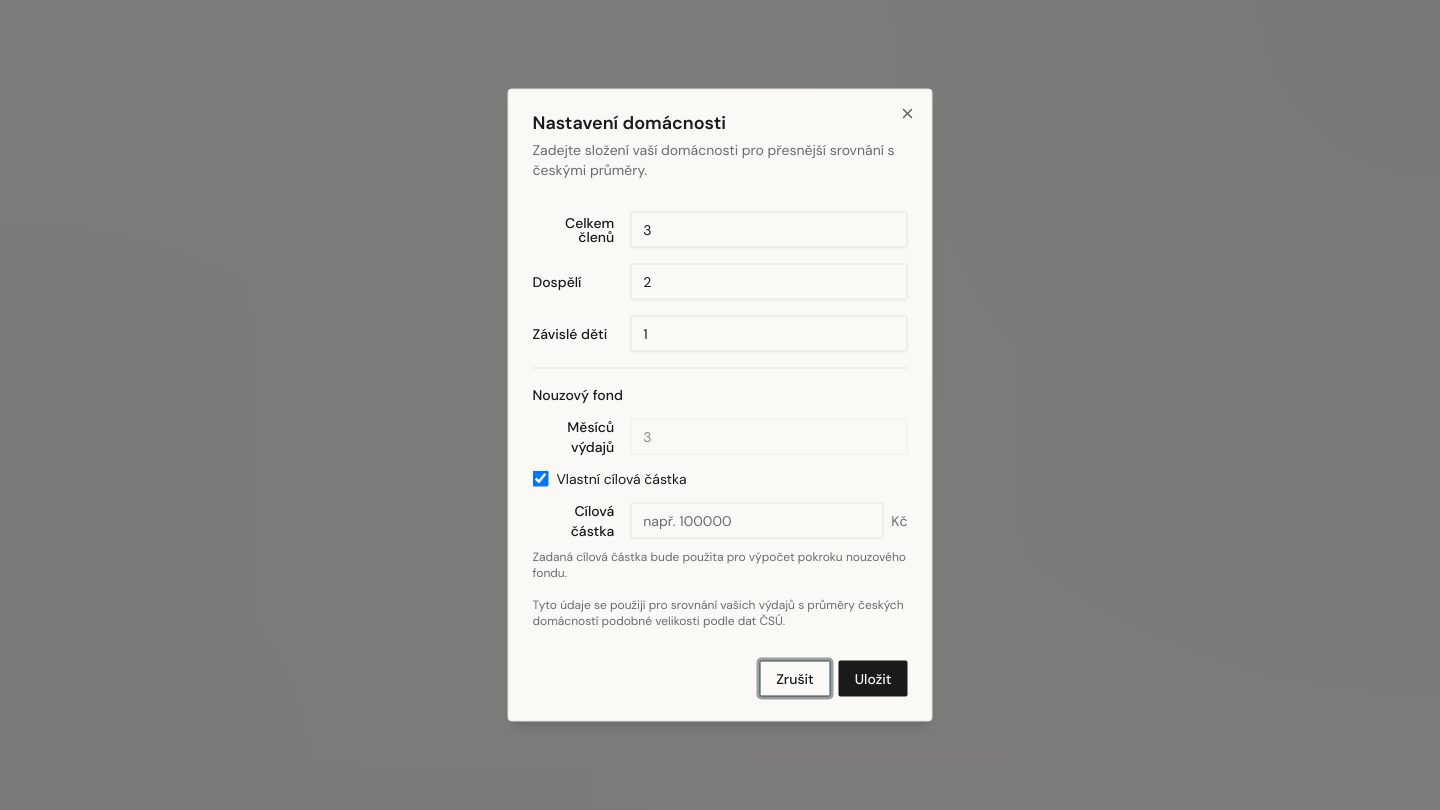
Test: HouseholdSettingsDialog › auto-adjusts children when adults change
Expected: the number field labelled "Celkem členů" holds "3", [630,212,908,248]
Change adults - children should auto-adjust to maintain total
Replace the text in the number field labelled "Dospělí" with "1" at (769, 282), box [630,264,908,300]
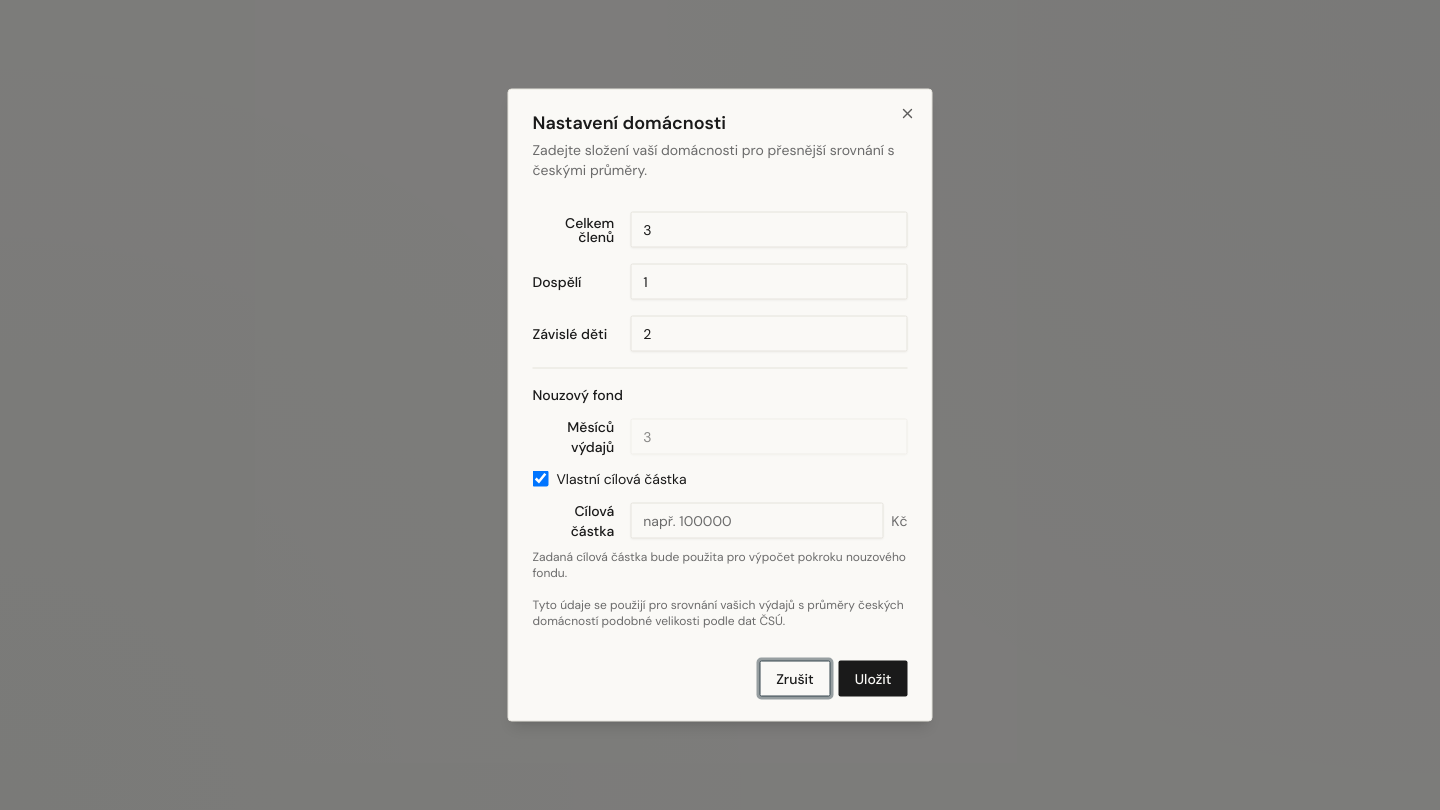
Expected: the number field labelled "Závislé děti" holds "2", [630,316,908,352]
